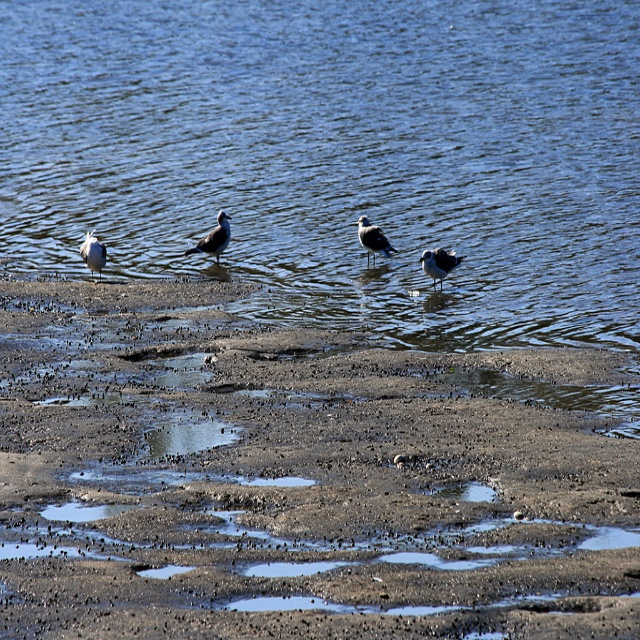Duck: (350, 204, 405, 259), (416, 248, 467, 301), (184, 208, 234, 261), (80, 234, 107, 270)
